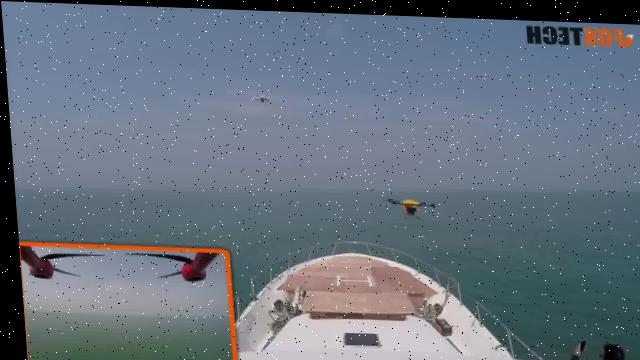drone: (373, 189, 438, 220), (244, 89, 282, 102)
